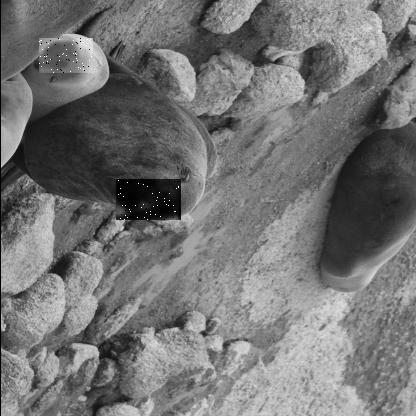face: (114, 179, 180, 221), (37, 38, 92, 74)
